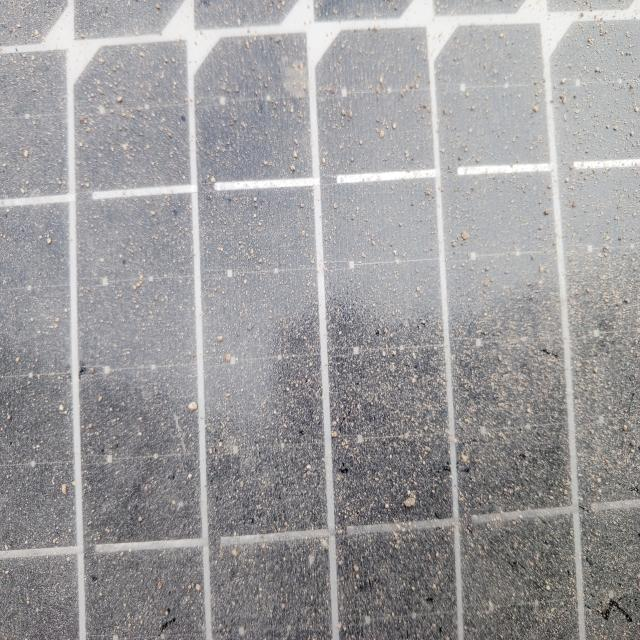Surface Contaminant: (14, 14, 628, 621)
